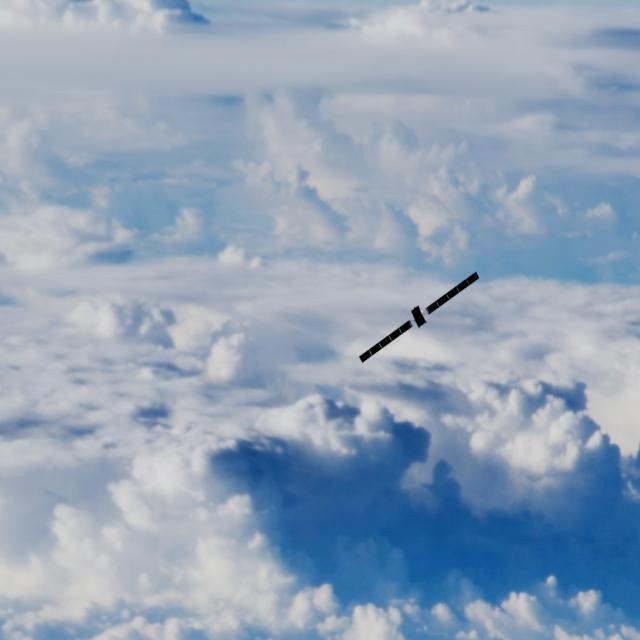medium_debris: (357, 269, 493, 368)
